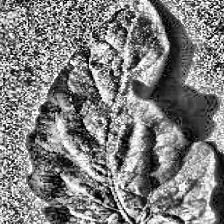spider mites: (26, 0, 221, 224)
